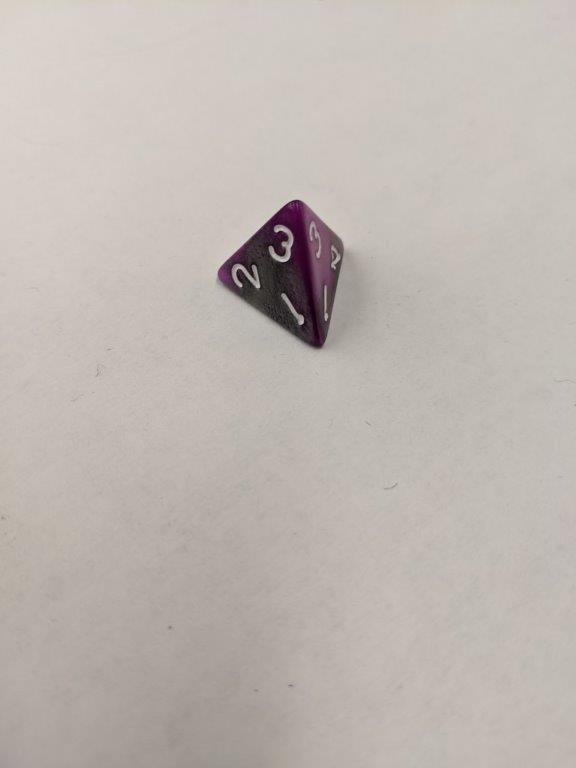d4-3: (213, 196, 351, 348)
